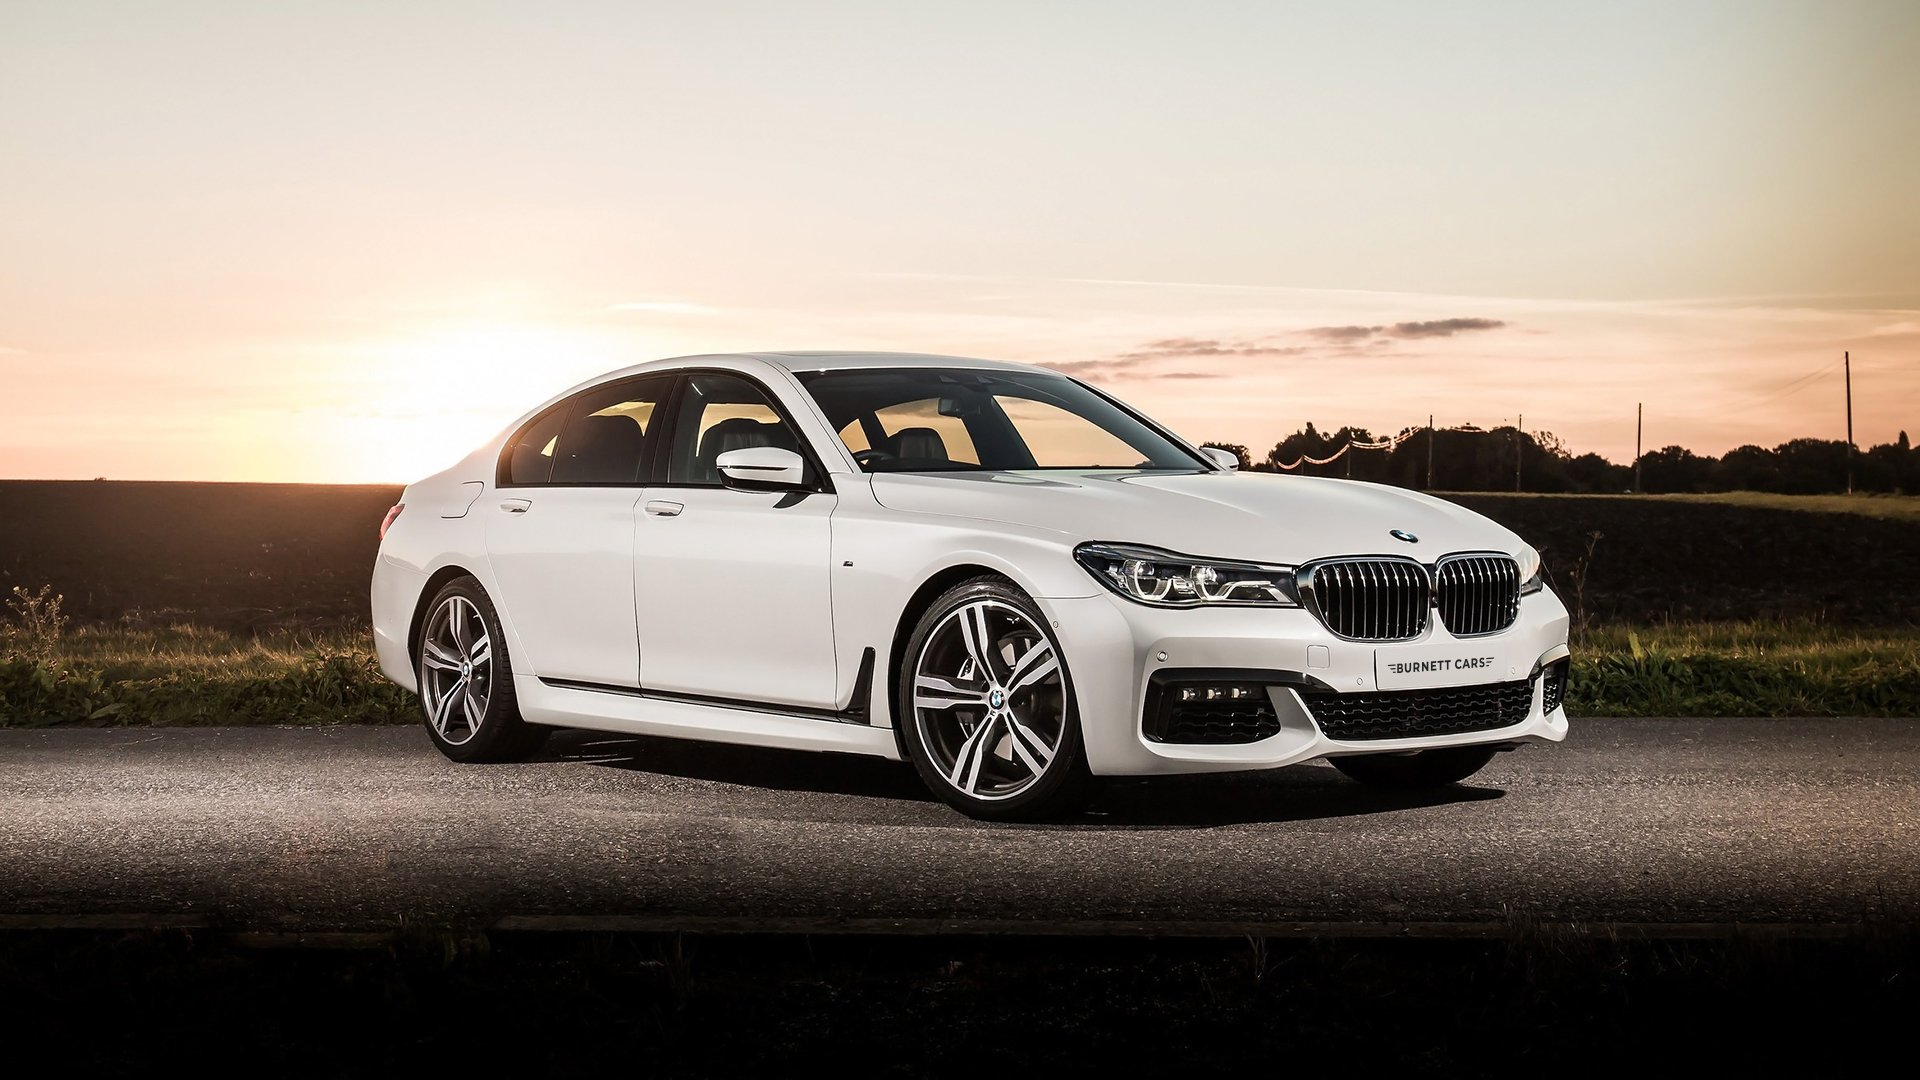car: (353, 335, 1578, 786)
